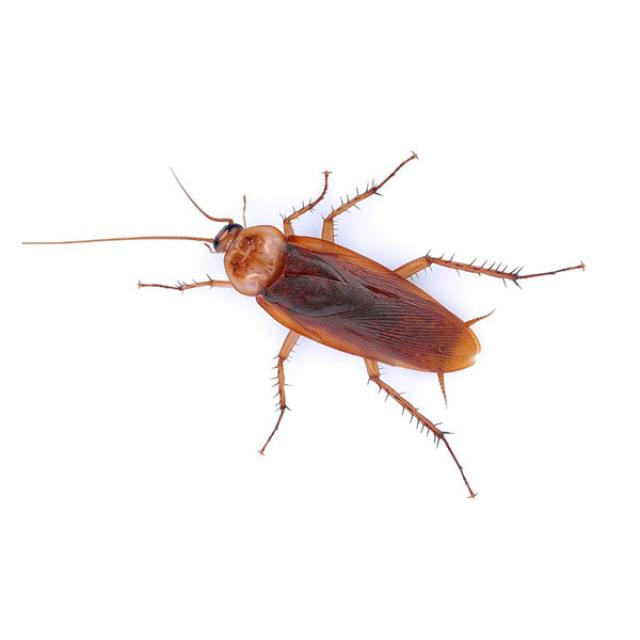Cockroach: (98, 171, 588, 508)
